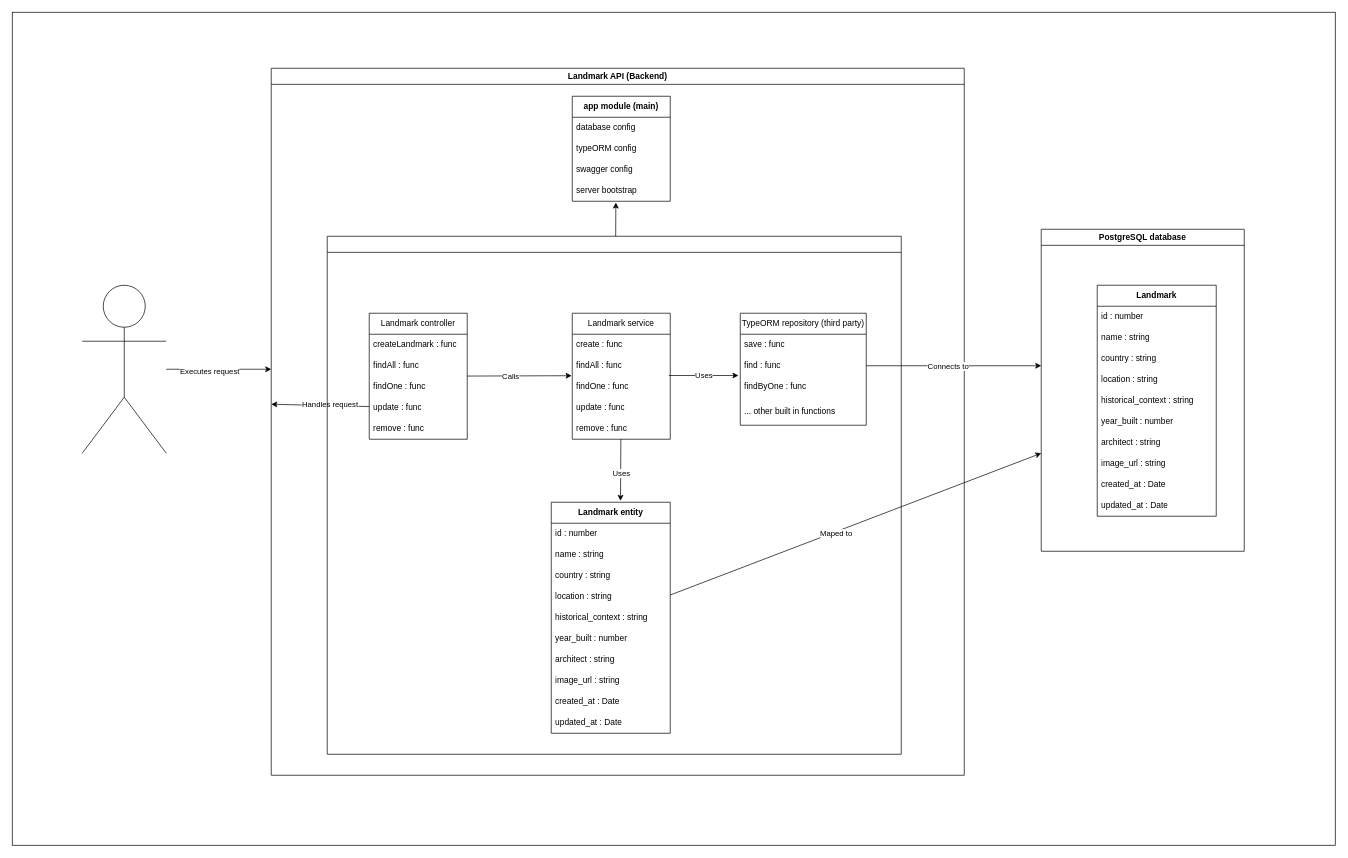
The diagram is 1348 pixels wide and 858 high, and some of its shapes have lost their labels. The centre of each missing label's shape, as x and y in pixels:
"Client" belongs at pixel 124 369.
"Landmark module" belongs at pixel 614 495.
